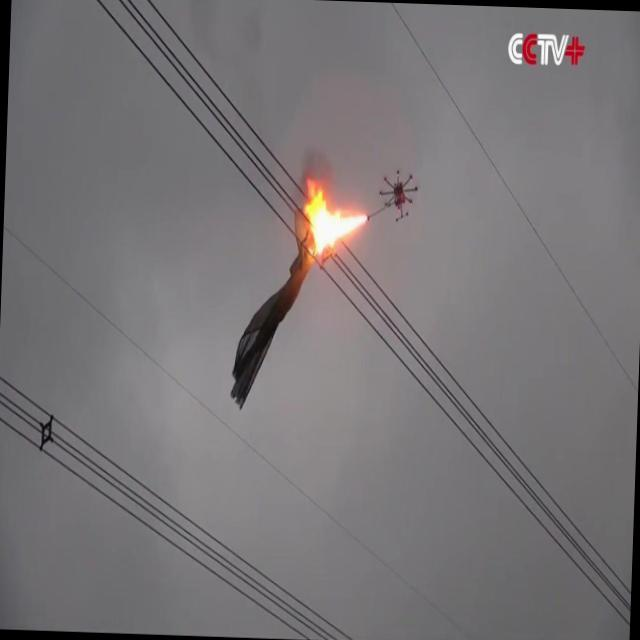drone: (377, 166, 420, 227)
